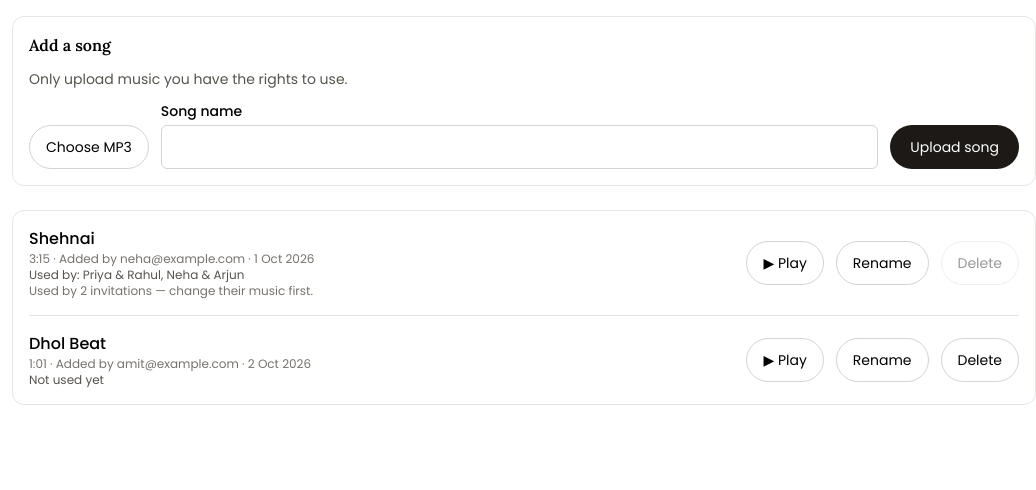
Test: MusicLibrary › shows an error and re-enables Save when renaming throws
Click the button with aria-label "Rename Dhol Beat": (882, 360) [836, 338, 928, 382]
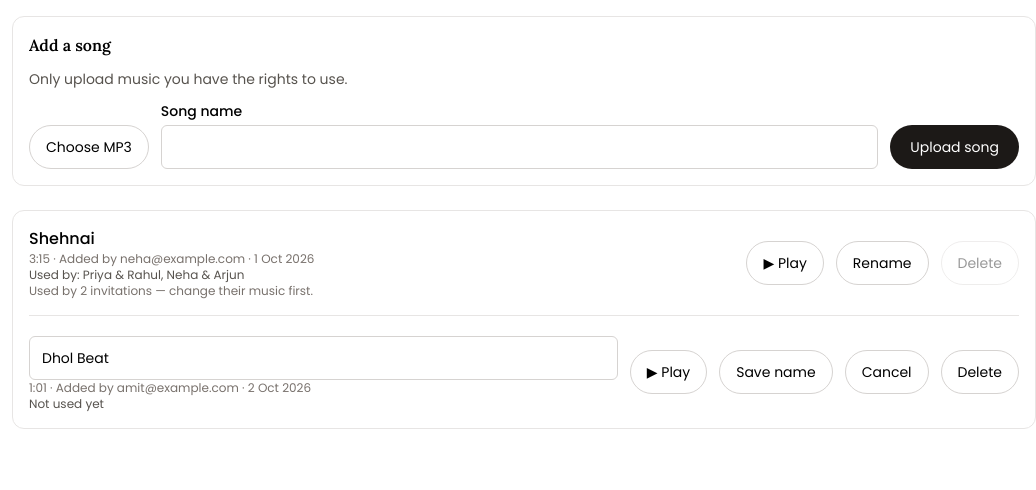
Click the button "Save name": (776, 372) [719, 350, 833, 394]
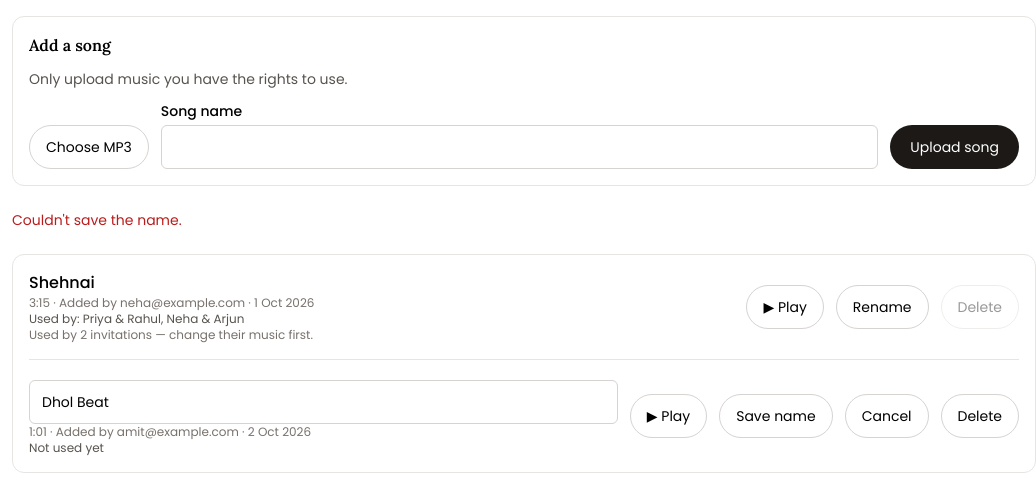
Expected: the button "Save name" is enabled, [719, 394, 833, 438]
Expected: the message reads "Couldn't save the name.", [12, 210, 182, 230]
